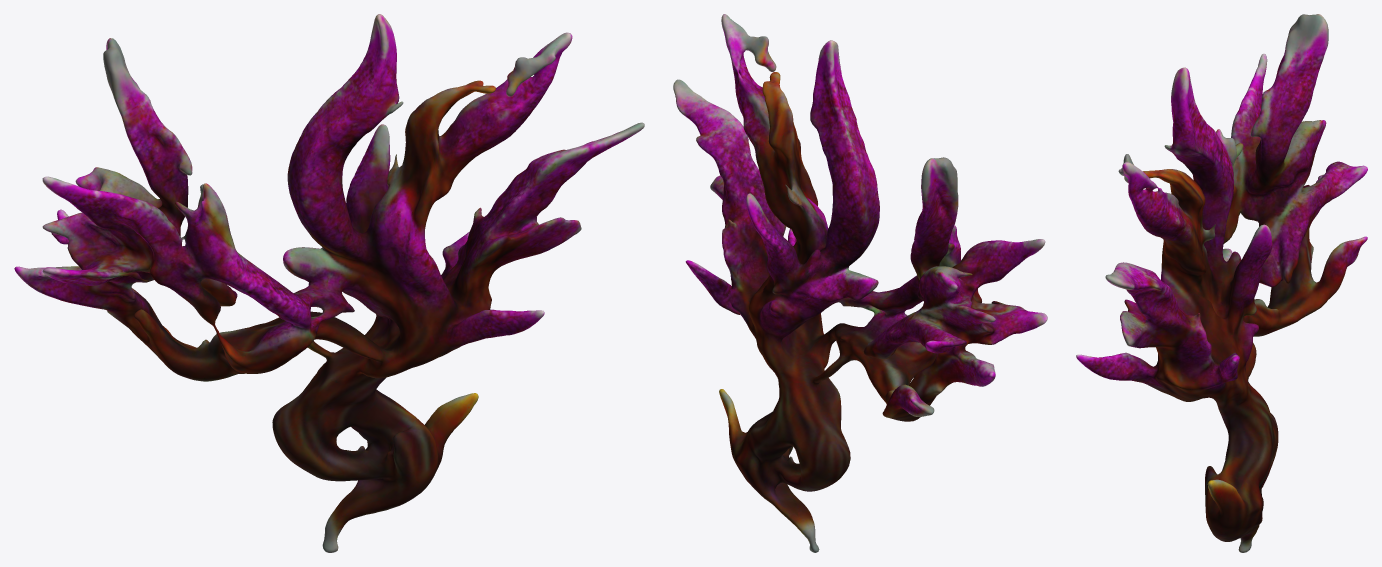
Rendered from ee0cf4e4cb21_a_fantasy_style_bla.fbx.
3 views of the same model, side by side, from view 1: azimuth 30°, elevation 25°; view 2: azimuth 150°, elevation 25°; view 3: azimuth 270°, elevation 25° (orthographic). The views are drawn at different scales.
Parts seen in each view (by area): view 1: high_poly; view 2: high_poly; view 3: high_poly.
Boxes of the visible parts, left/top/right/bottom form: high_poly: left=14, top=14, right=644, bottom=552; high_poly: left=673, top=14, right=1047, bottom=552; high_poly: left=1076, top=14, right=1367, bottom=552.
Size of the model in its own units: 96.23 by 100 by 53.89.
